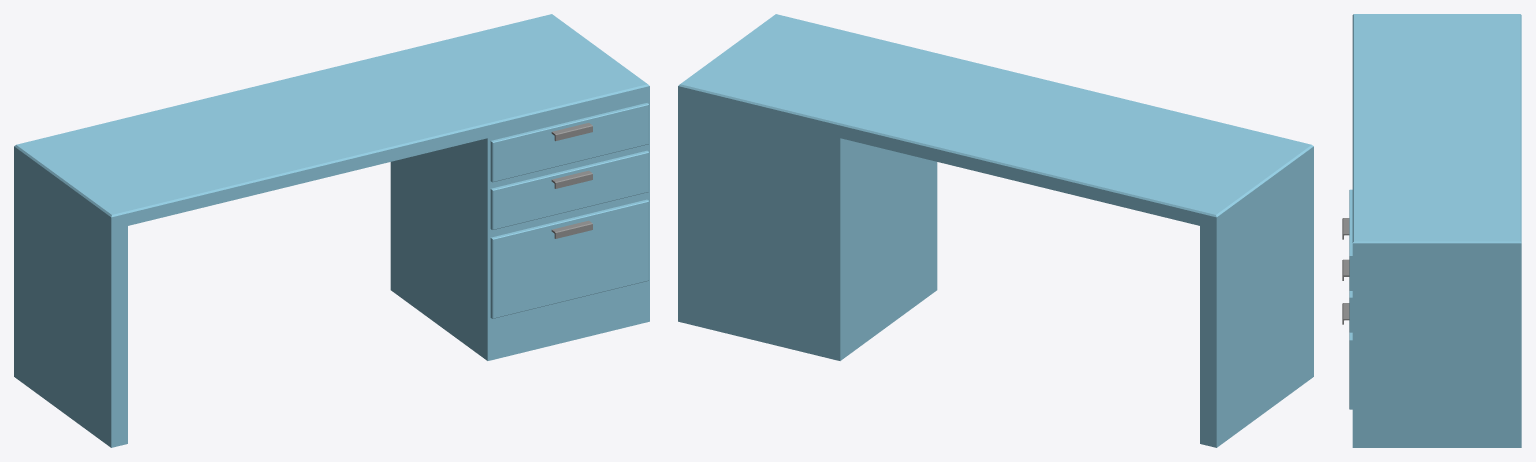
Rendered from FURNITURE_desk_01.FBX.
3 renders of one model, left to right at view 1: azimuth 30°, elevation 25°; view 2: azimuth 150°, elevation 25°; view 3: azimuth 270°, elevation 25°, orthographic. The views are drawn at different scales.
Parts seen in each view (by area): view 1: FURNITURE_desk_01_base, FURNITURE_desk_01_drawer_03, FURNITURE_desk_01_drawer_01, FURNITURE_desk_01_drawer_02; view 2: FURNITURE_desk_01_base; view 3: FURNITURE_desk_01_base, FURNITURE_desk_01_drawer_01, FURNITURE_desk_01_drawer_03, FURNITURE_desk_01_drawer_02.
Boxes of the visible parts, x1,y1,x2,y2 form: FURNITURE_desk_01_base: (14,14,649,447); FURNITURE_desk_01_drawer_03: (490,199,648,318); FURNITURE_desk_01_drawer_01: (490,103,648,182); FURNITURE_desk_01_drawer_02: (490,150,648,229); FURNITURE_desk_01_base: (678,14,1313,447); FURNITURE_desk_01_base: (1352,14,1521,447); FURNITURE_desk_01_drawer_01: (1342,189,1352,290); FURNITURE_desk_01_drawer_03: (1342,303,1352,409); FURNITURE_desk_01_drawer_02: (1342,259,1352,332).
Size of the model in its own units: 262 by 111 by 86.99.
